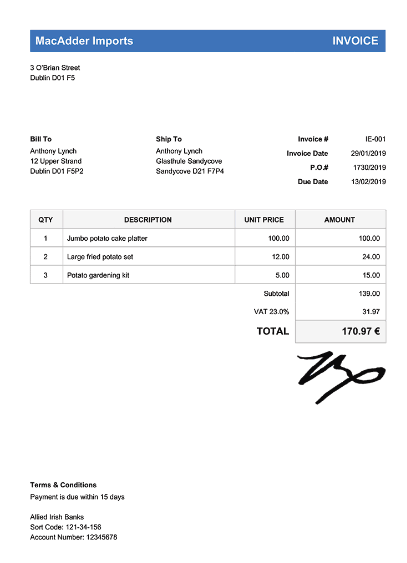Table: (8, 190, 395, 347)
